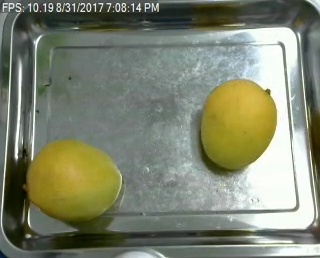Mango: (22, 139, 124, 224), (201, 77, 278, 169)
